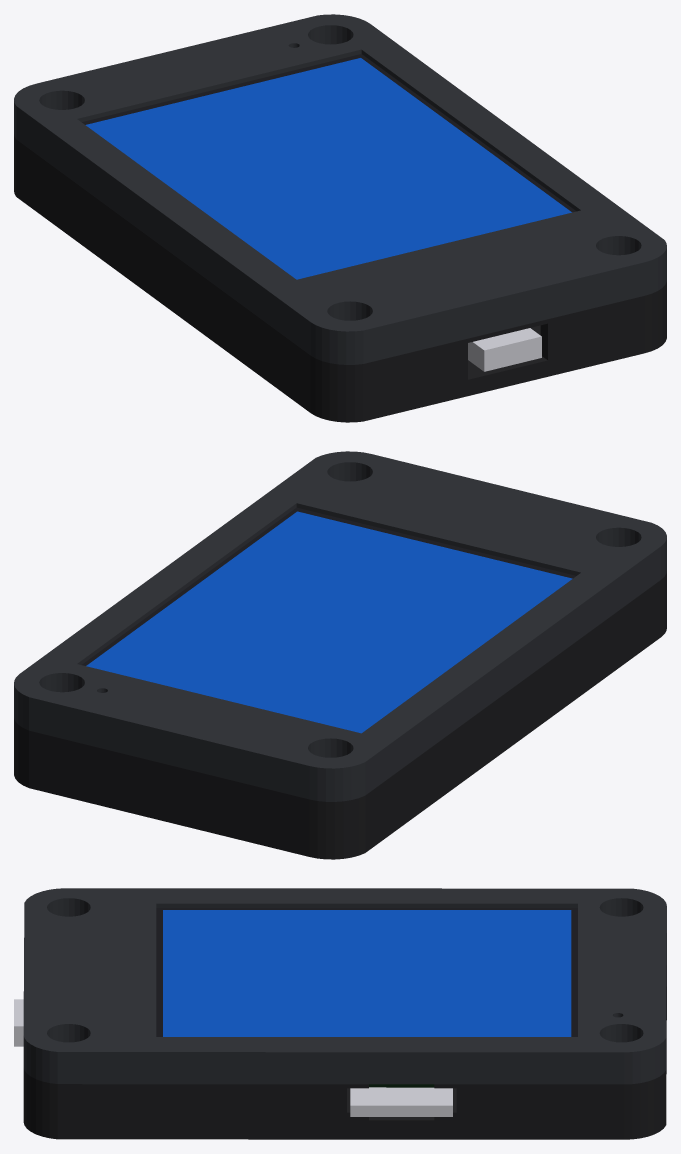
Rendered from Full_Enclosure_Assembly.obj.
3 views of the same model, one above another, from view 1: azimuth 30°, elevation 25°; view 2: azimuth 150°, elevation 25°; view 3: azimuth 270°, elevation 25° (orthographic). The views are drawn at different scales.
Parts seen in each view (by area): view 1: Case_Top, Screen_Display, Case_Bottom, USBC_Receptacle, Screen_Glass; view 2: Case_Top, Screen_Display, Case_Bottom, Screen_Glass; view 3: Case_Top, Screen_Display, Case_Bottom, MicroSD_Socket, Screen_Glass, USBC_Receptacle.
Boxes of the visible parts, box(x1,y1,x2,y2) form: Case_Top: box(14, 14, 666, 364); Screen_Display: box(85, 58, 571, 279); Case_Bottom: box(14, 134, 666, 422); USBC_Receptacle: box(468, 328, 541, 371); Screen_Glass: box(82, 54, 576, 212); Case_Top: box(14, 451, 666, 801); Screen_Display: box(86, 511, 572, 733); Case_Bottom: box(14, 571, 666, 859); Screen_Glass: box(82, 507, 575, 665); Case_Top: box(23, 888, 666, 1084); Screen_Display: box(163, 910, 571, 1036); Case_Bottom: box(23, 965, 666, 1139); MicroSD_Socket: box(350, 1087, 452, 1116); Screen_Glass: box(156, 908, 577, 1036); USBC_Receptacle: box(14, 999, 23, 1046).
Bounding box in the file's own units: 58.4 × 13.6 × 92.15.
